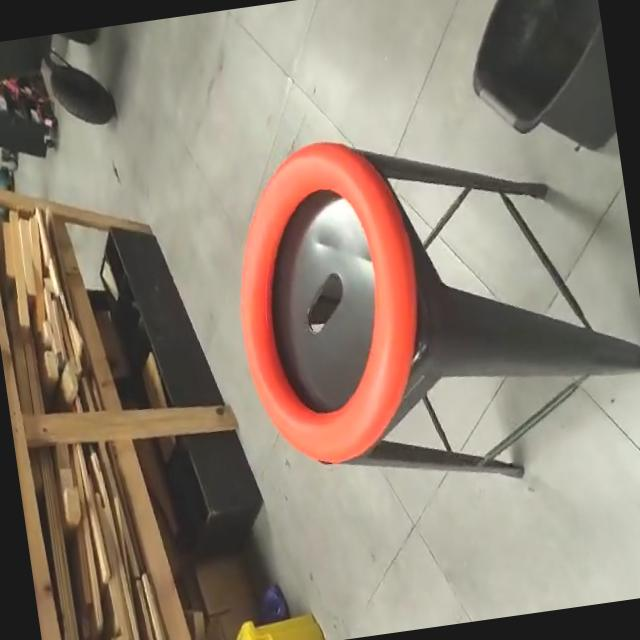note: (216, 126, 444, 478)
